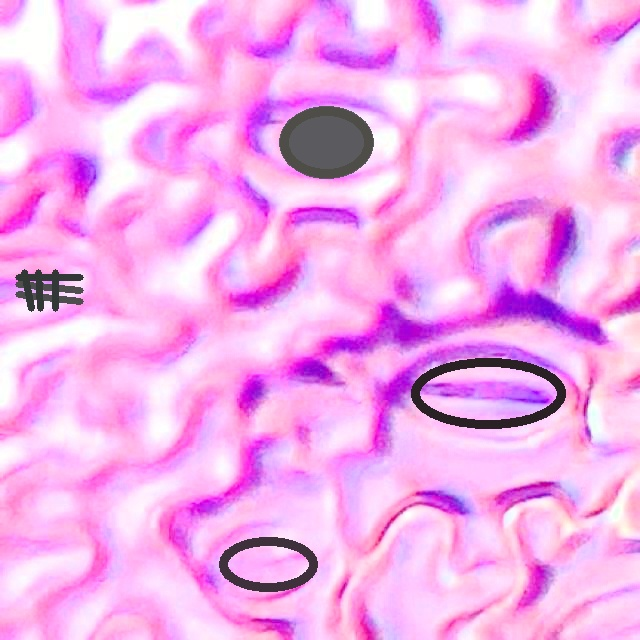close: (279, 105, 373, 178), (218, 536, 318, 591)
open: (410, 357, 566, 429), (16, 269, 82, 310)
